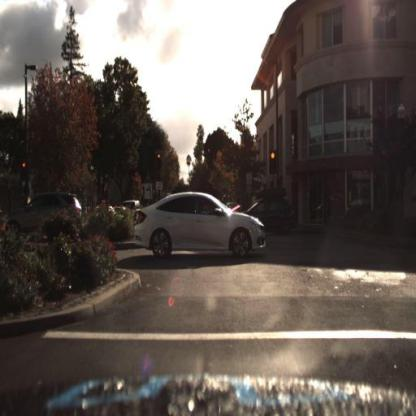car: (134, 196, 269, 259), (5, 191, 85, 243), (242, 188, 295, 238), (17, 192, 83, 224)
trafficLight: (21, 157, 29, 177)
trafficLight-Red: (155, 151, 163, 177), (269, 150, 277, 176), (156, 145, 163, 166)
